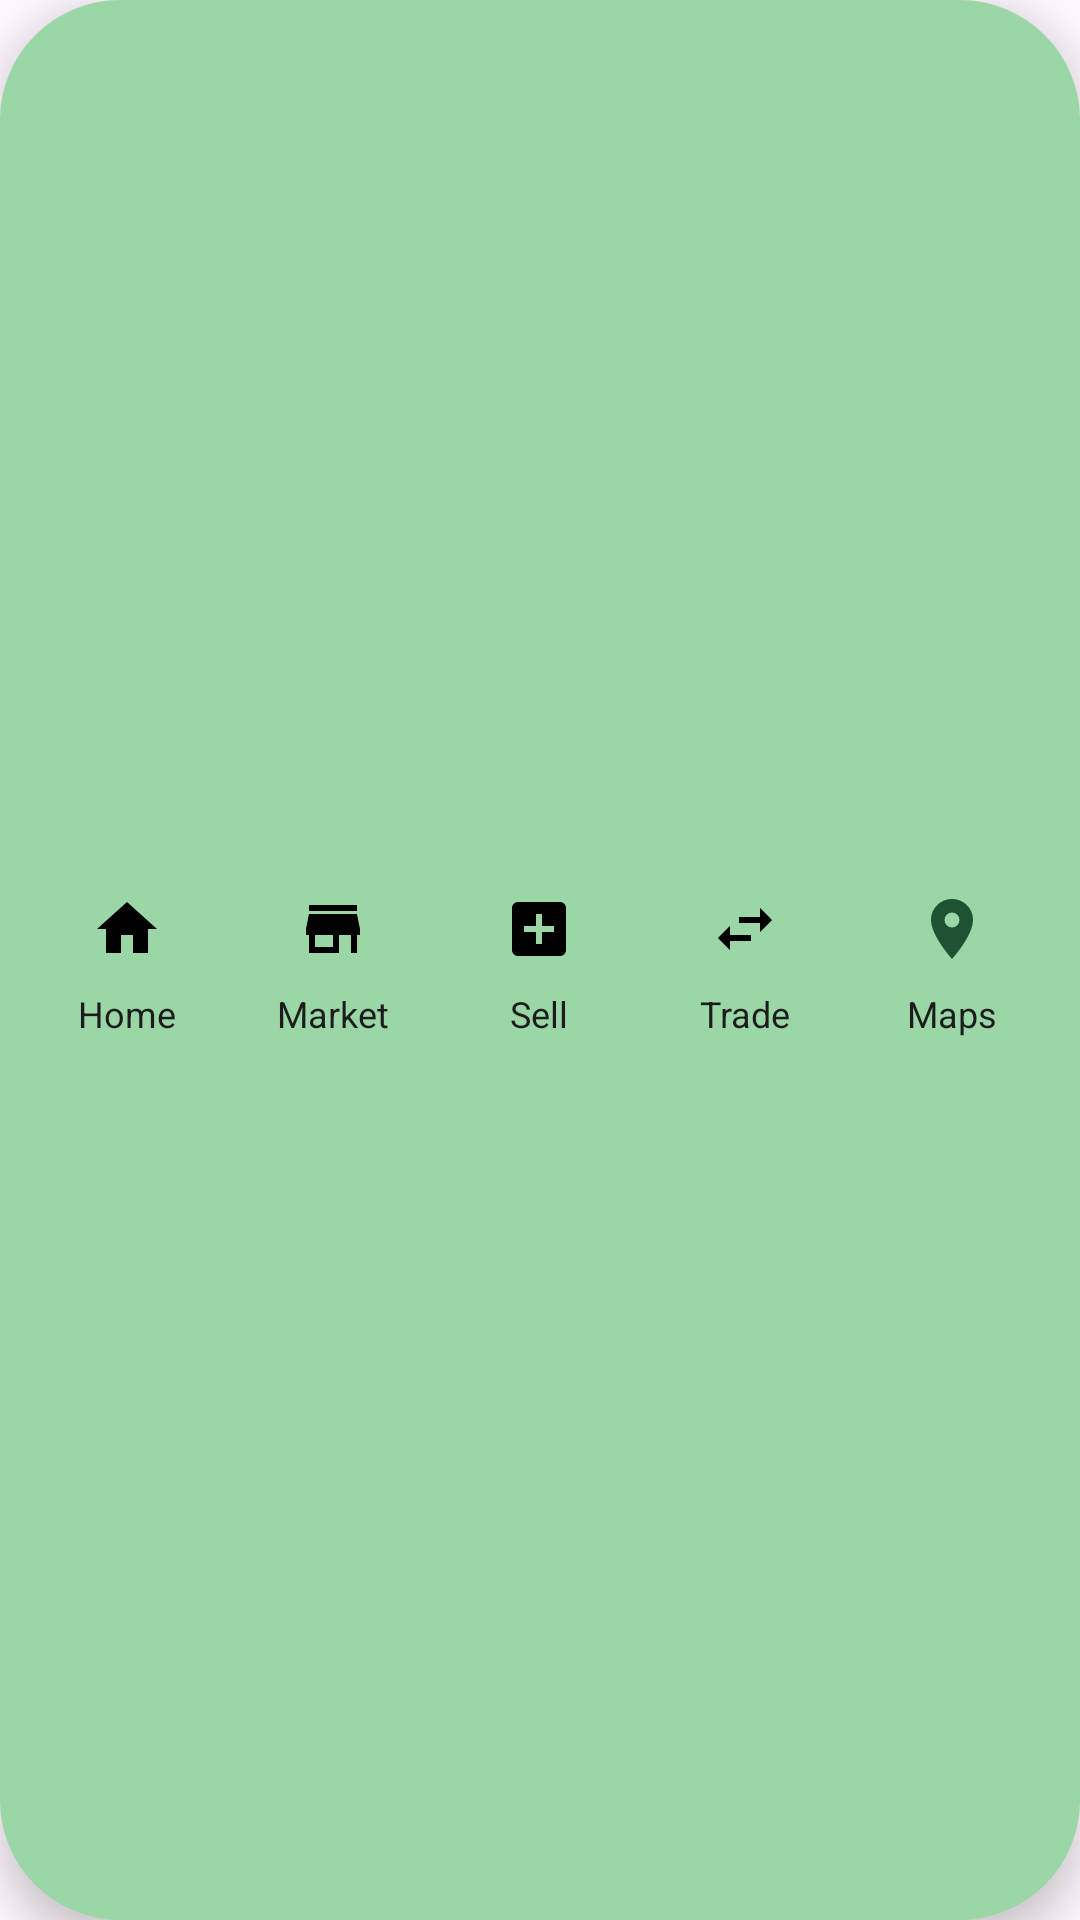

Screen size 1080x1920. Icon name, then its box in pixels as [left=x1, top=y1, right=x2, bottom=y2]:
location: [left=931, top=899, right=973, bottom=959]
